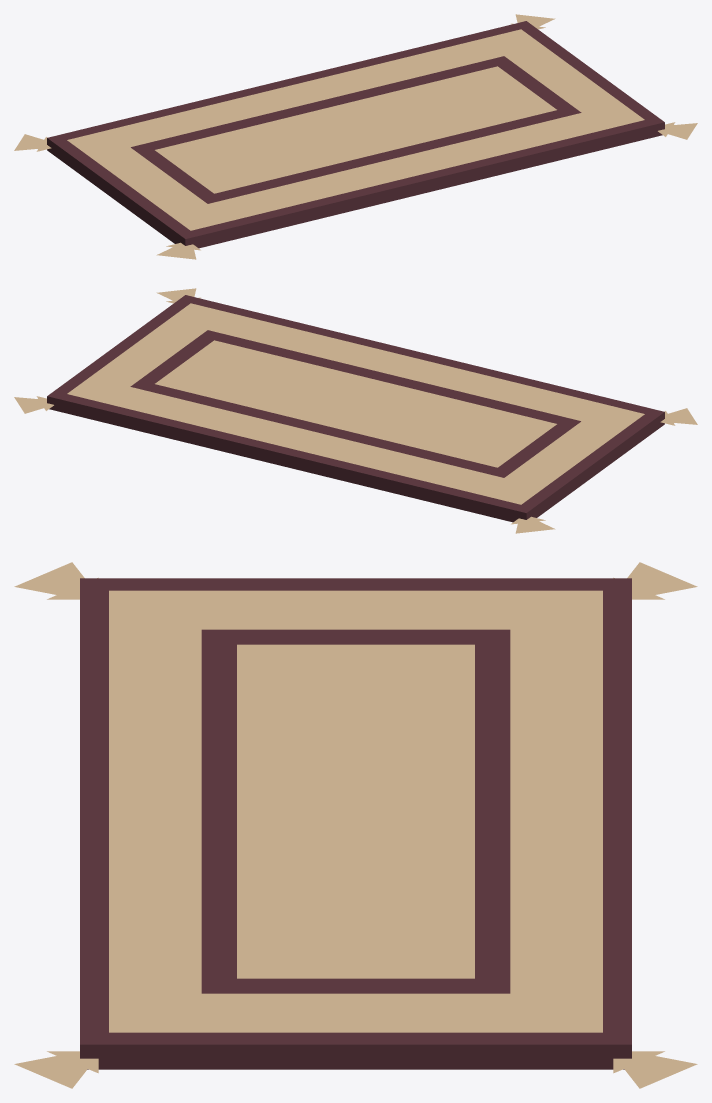
The model's file is empire-carpet-small-empire.glb.
The picture shows the model from 3 angles, top to bottom: view 1: azimuth 30°, elevation 25°; view 2: azimuth 150°, elevation 25°; view 3: azimuth 270°, elevation 25°; orthographic projection. The views are drawn at different scales.
Visible parts, largest first — view 1: SM_Carpet_Small_Empire; view 2: SM_Carpet_Small_Empire; view 3: SM_Carpet_Small_Empire.
Boxes of the visible parts, left/top/right/bottom form: SM_Carpet_Small_Empire: left=14, top=14, right=697, bottom=259; SM_Carpet_Small_Empire: left=14, top=288, right=697, bottom=533; SM_Carpet_Small_Empire: left=14, top=562, right=697, bottom=1088.
Bounding box in the file's own units: 2.26 × 0.05 × 1.24.
